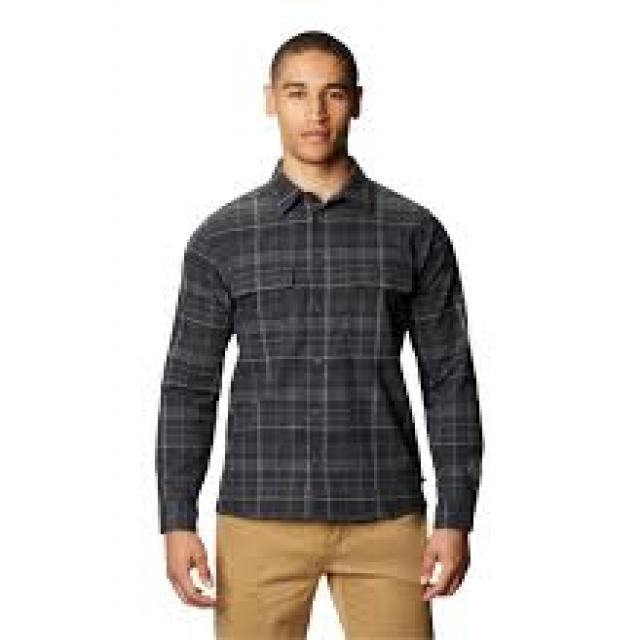plaid: (132, 151, 492, 535)
